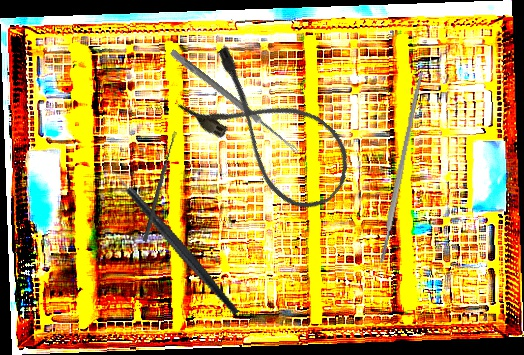Cannula: (172, 40, 367, 224)
Chopper: (96, 142, 243, 342)
Scalpel Handle: (376, 70, 426, 264)
Surgical Spoon: (168, 48, 302, 156), (142, 130, 178, 243)
